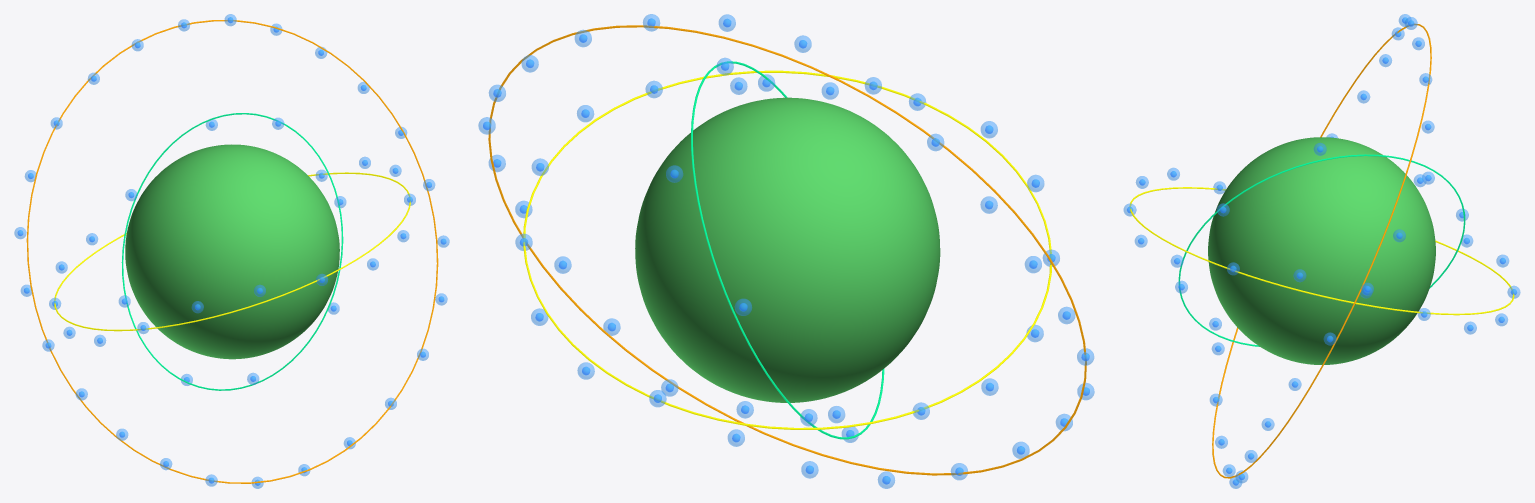
3 renders of one model, left to right at view 1: azimuth 30°, elevation 25°; view 2: azimuth 150°, elevation 25°; view 3: azimuth 270°, elevation 25°, orthographic. The views are drawn at different scales.
Visible parts, largest first — view 1: I, object 61, object 7, object 24; view 2: I, object 61, object 24, object 7; view 3: I, object 61, object 24, object 7.
Boxes of the visible parts, x1,y1,x2,y2 form: I: (125,144,339,359); object 61: (26,20,438,483); object 7: (121,113,343,390); object 24: (54,172,410,331); I: (635,97,940,402); object 61: (488,25,1086,475); object 24: (523,70,1051,429); object 7: (691,61,884,439); I: (1208,137,1435,364); object 61: (1212,23,1431,478); object 24: (1129,187,1514,315); object 7: (1178,154,1465,346).
Size of the model in its own units: 6.15 by 5.68 by 4.83.
